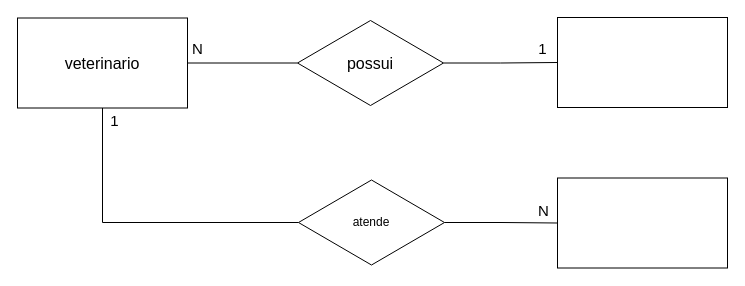
This 745x286 diagram has some shape labels left out. The box of each missing label's shape, as (x1, y1, x2, y2) in pixels:
clinica: (556, 16, 728, 108)
pet: (556, 177, 728, 268)
